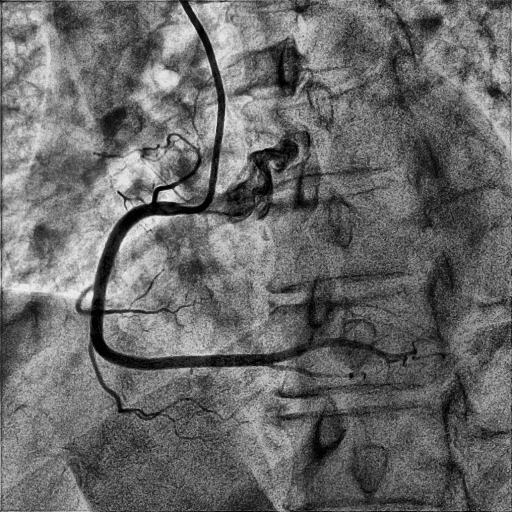pborca: (271, 337, 389, 364)
pda: (268, 365, 336, 378)
rca: (90, 202, 271, 370)
